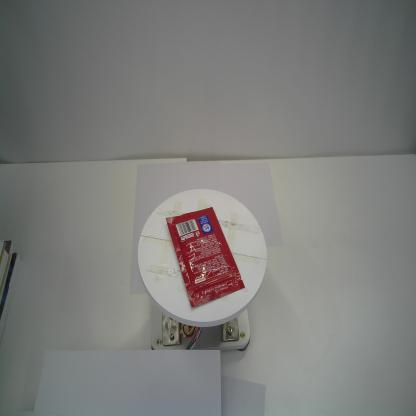Seasoner: (164, 206, 247, 312)
